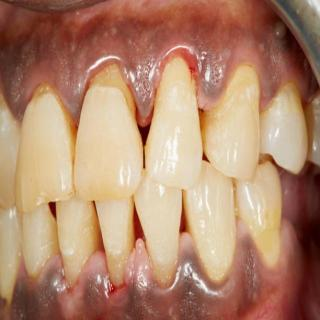Gum Swelling: (10, 49, 110, 119), (170, 38, 246, 109), (125, 233, 206, 297), (108, 47, 170, 126), (200, 219, 249, 300), (248, 219, 296, 286), (18, 257, 84, 299), (252, 44, 293, 108), (81, 252, 108, 285)
stains: (61, 115, 85, 187)
